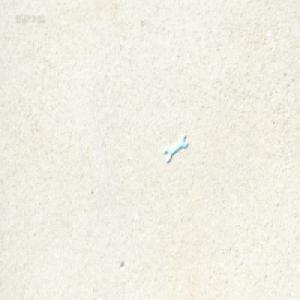Wrench: (164, 134, 188, 162)
